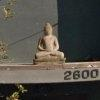Statue: (25, 16, 69, 73)
